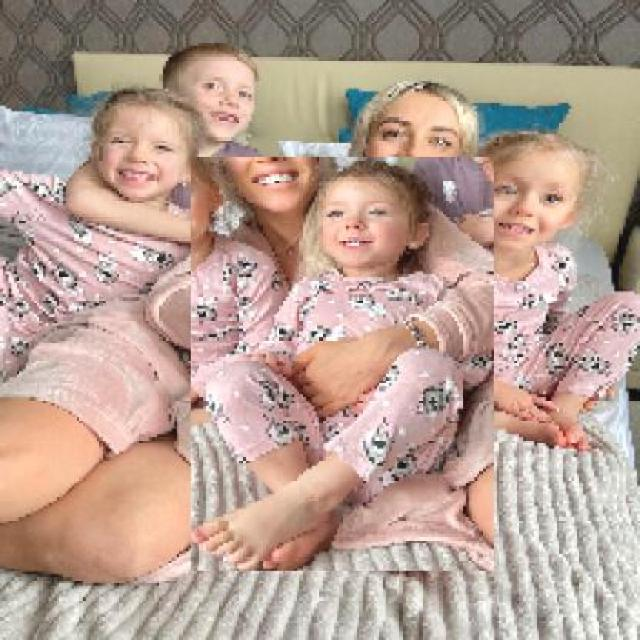child: (189, 156, 494, 573), (392, 130, 638, 453), (2, 88, 218, 383), (64, 42, 276, 242)
